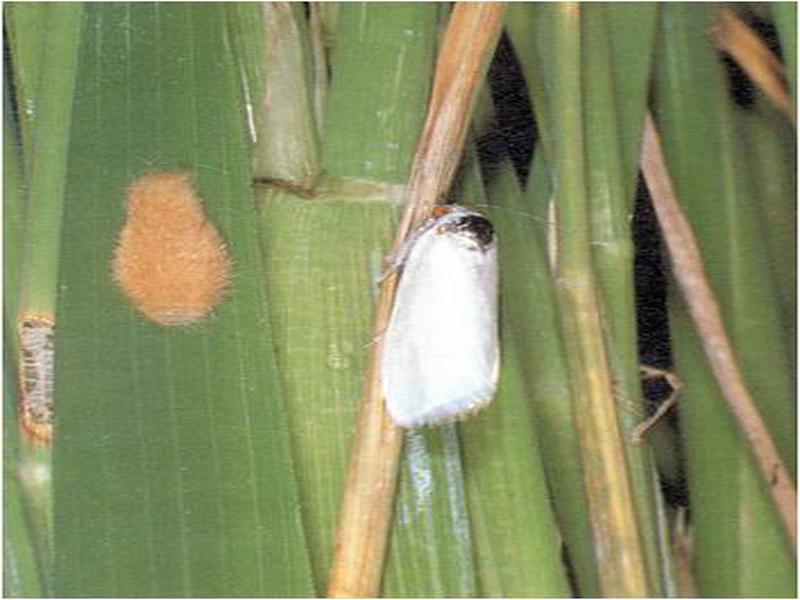Rice_skipper: (348, 188, 517, 431), (85, 167, 249, 338), (8, 310, 63, 442)
